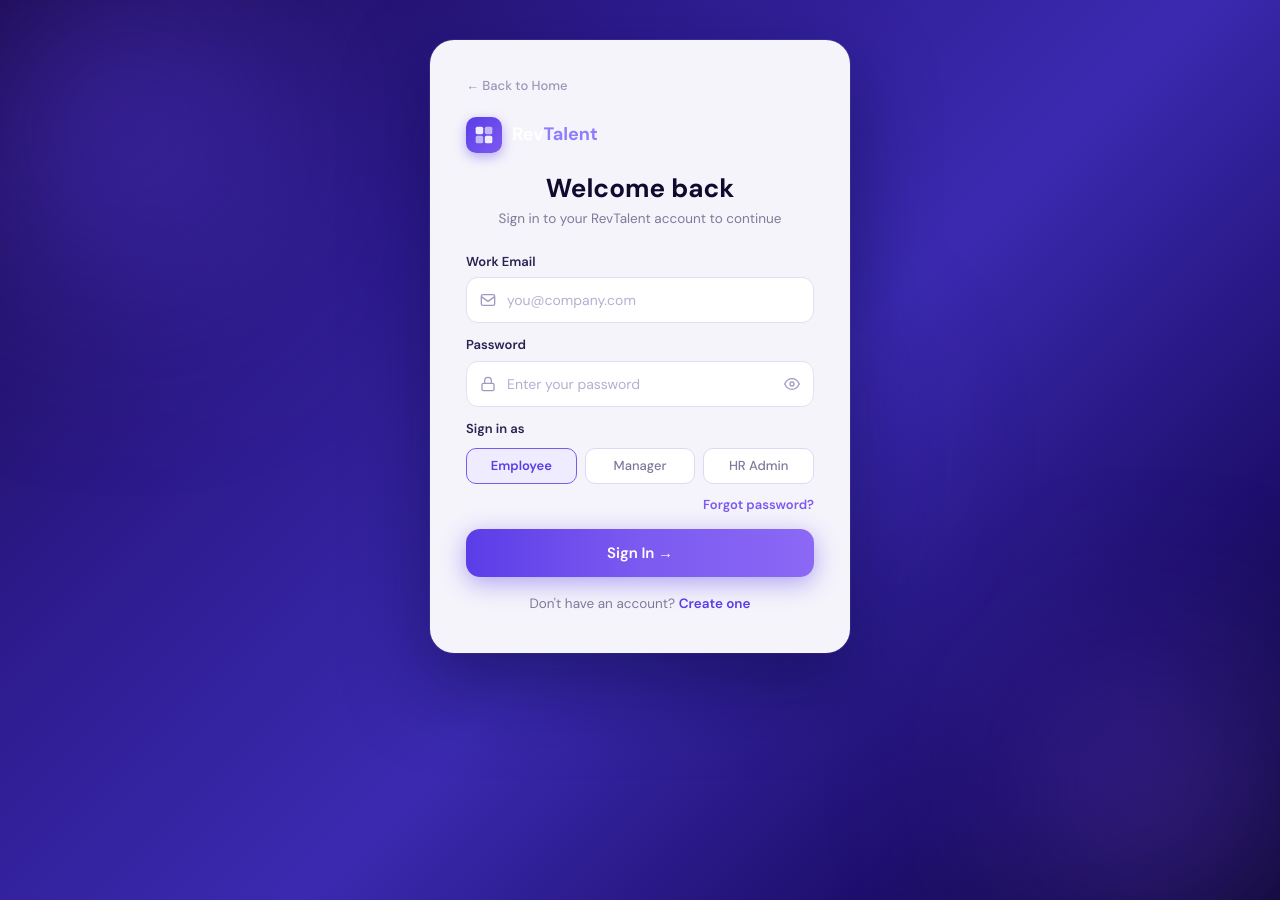
Test case: Validation - Error Messages on Invalid Input › shows error when password is empty but email is filled
In the field with placeholder "you@company.com": [640, 300] box [466, 277, 814, 323], type "user@test.com"
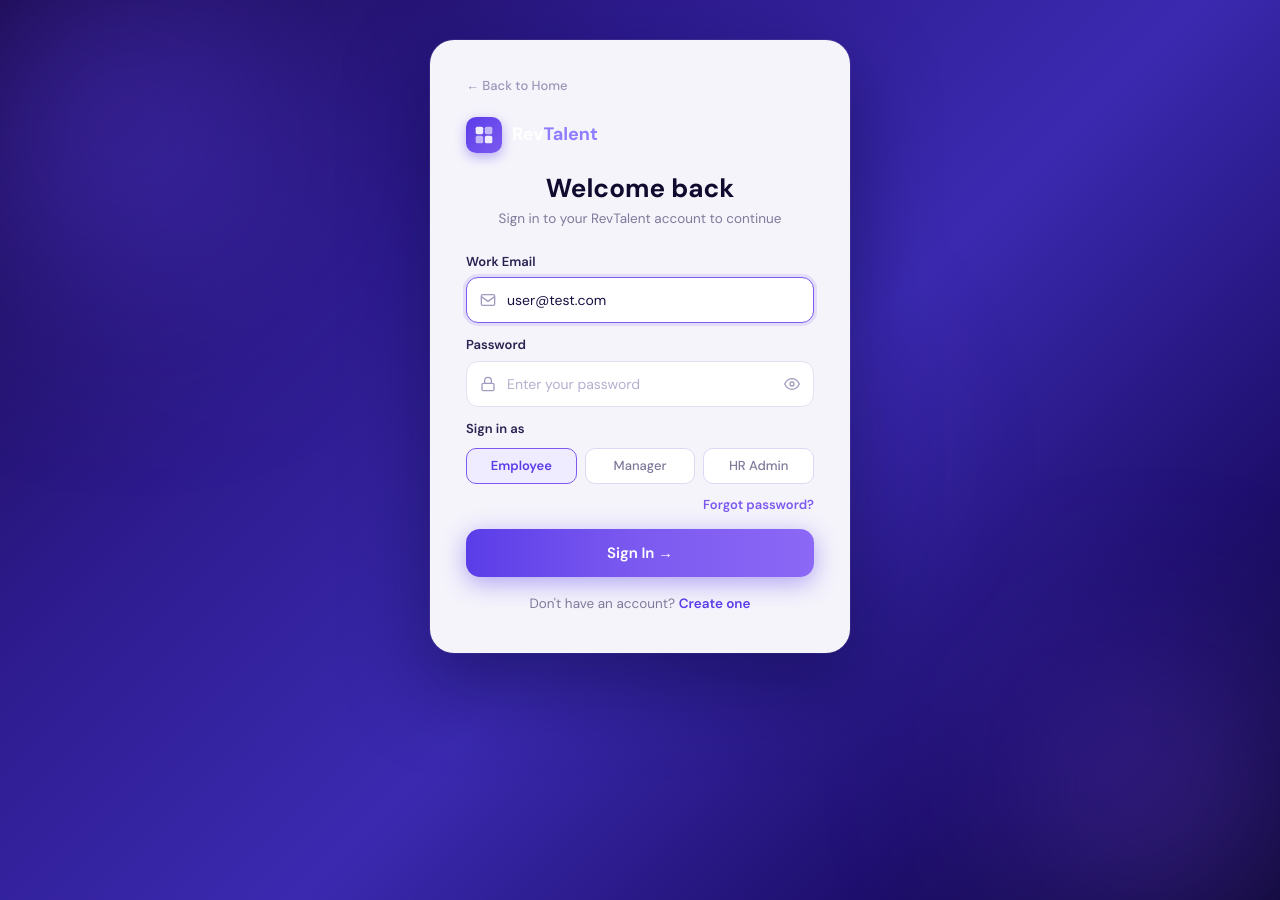
Click the button "Sign In →": [640, 553] box [466, 529, 814, 577]
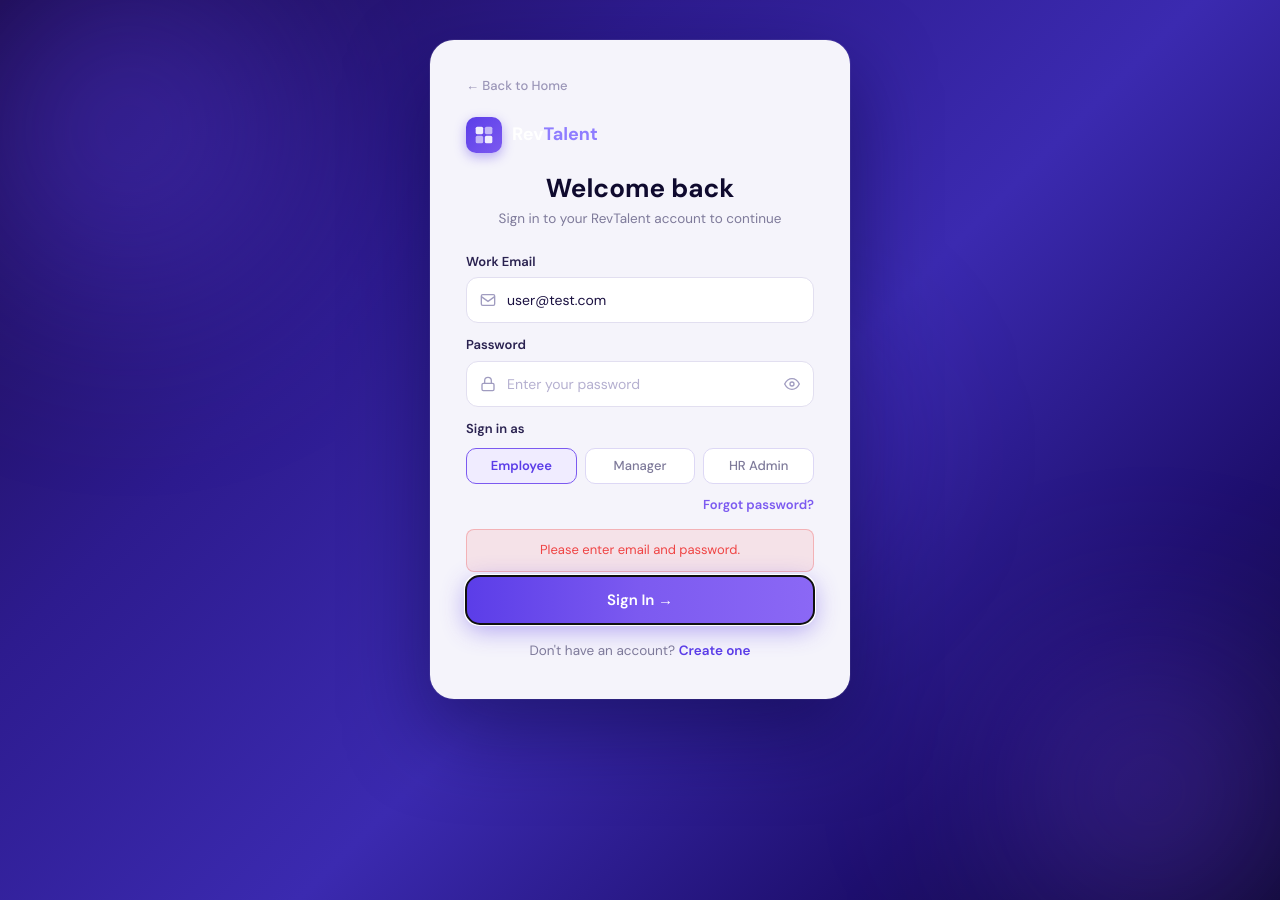
Now the text "Please enter email and password." is shown, box [466, 529, 814, 572]
